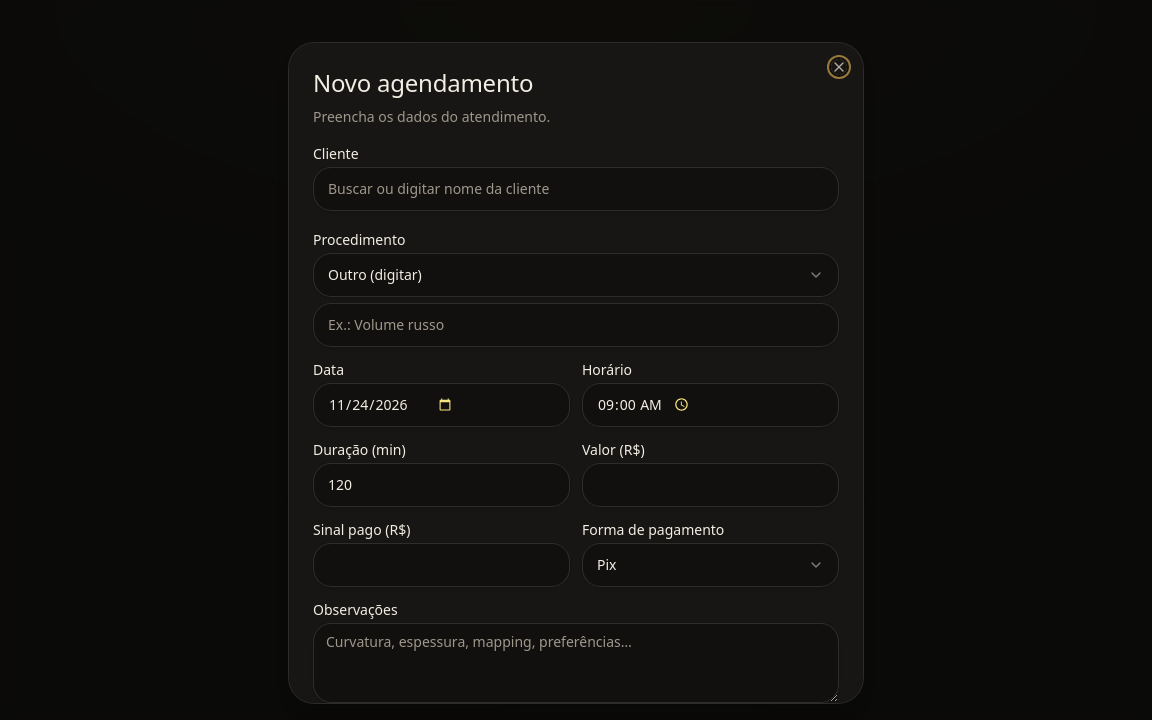
Test: Busca de cliente no agendamento › mostra a cliente a partir de duas letras digitadas
The image size is (1152, 720).
In the field with placeholder "Buscar ou digitar nome da cliente": (576, 189) [313, 167, 839, 211], type "mar"
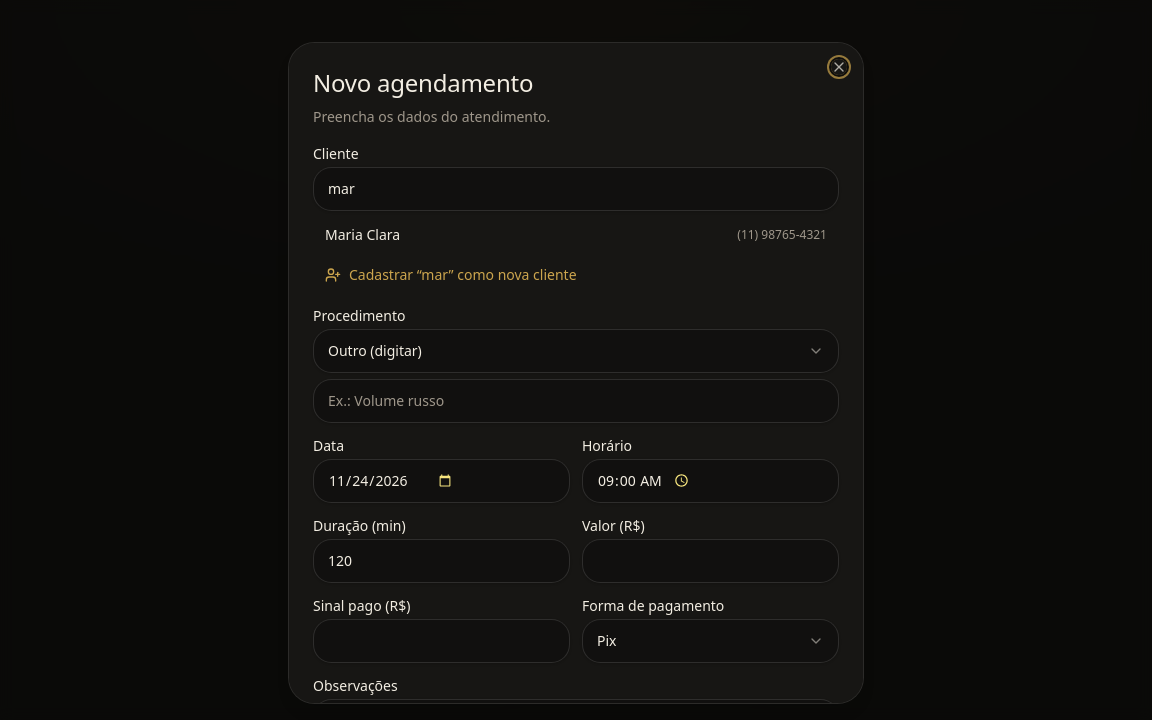
Result: the text "Maria Clara" is shown at [325, 225, 400, 245]
